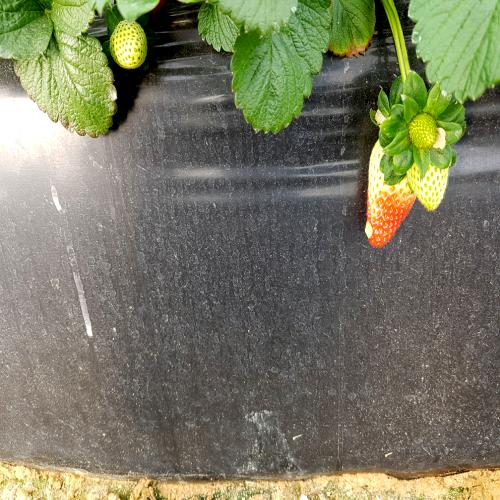partially-ripe: (360, 117, 415, 258)
